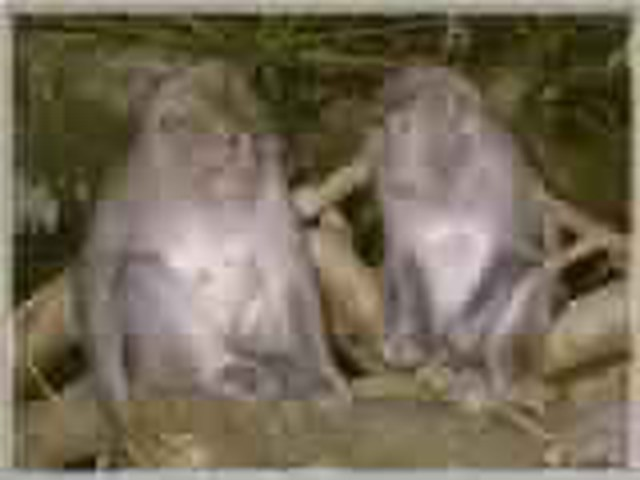Monkey: (65, 57, 345, 410), (377, 62, 569, 404)
